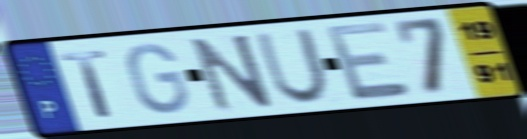7: (392, 16, 453, 98)
E: (321, 18, 415, 105)
G: (124, 42, 193, 117)
N: (187, 31, 278, 115)
T: (57, 47, 118, 121)
U: (253, 26, 333, 106)
